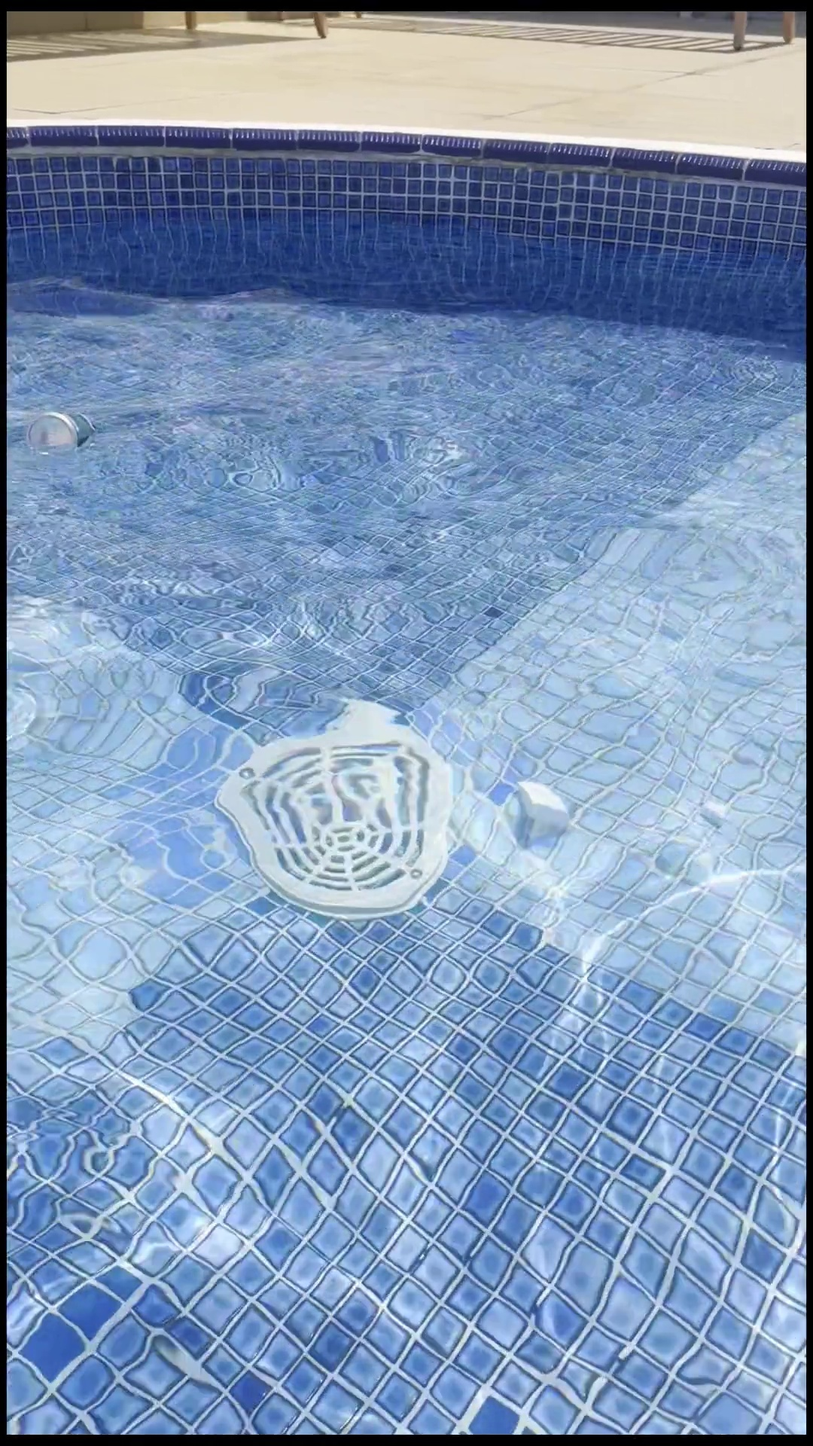debris: (21, 383, 97, 480)
